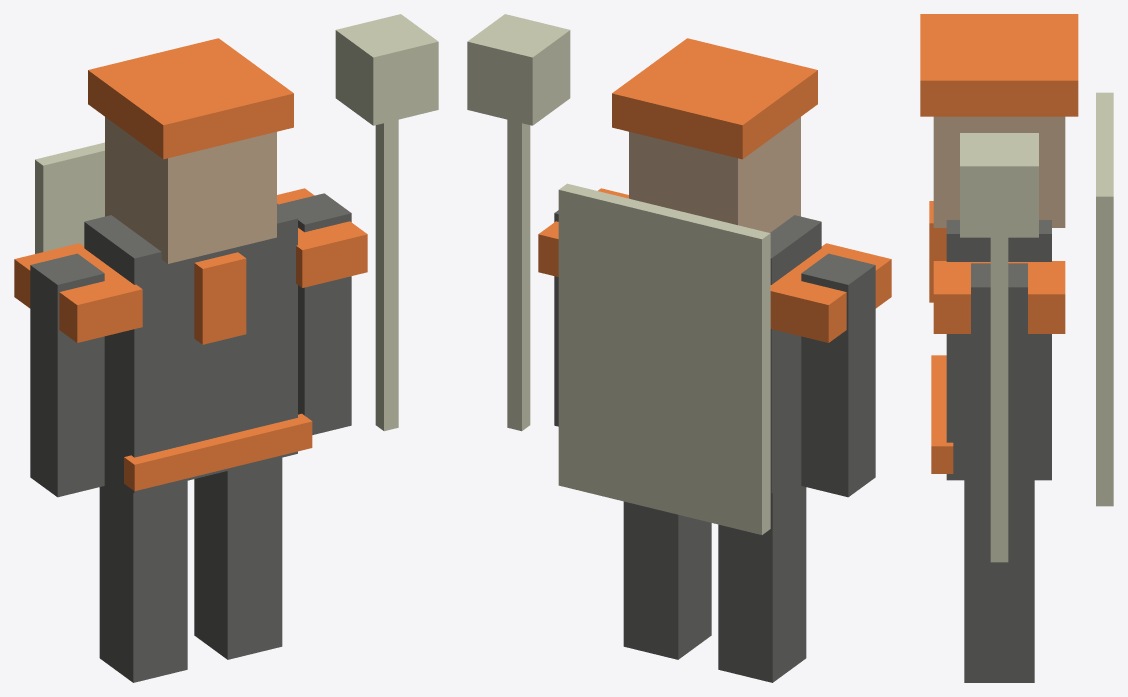
Rendered from 16_tovin_frostrelay_herald_at_pressure.glb.
3 renders of one model, left to right at view 1: azimuth 30°, elevation 25°; view 2: azimuth 150°, elevation 25°; view 3: azimuth 270°, elevation 25°, orthographic. The views are drawn at different scales.
Visible parts, largest first — view 1: Tovin Frostrelay, Herald at Pressure; view 2: Tovin Frostrelay, Herald at Pressure; view 3: Tovin Frostrelay, Herald at Pressure.
Part boxes in pixels (box(x1,y1,x2,y2)): Tovin Frostrelay, Herald at Pressure: box(14, 14, 438, 682); Tovin Frostrelay, Herald at Pressure: box(467, 14, 891, 682); Tovin Frostrelay, Herald at Pressure: box(920, 14, 1113, 682).
Size of the model in its own units: 1.01 by 1.47 by 0.4304.
